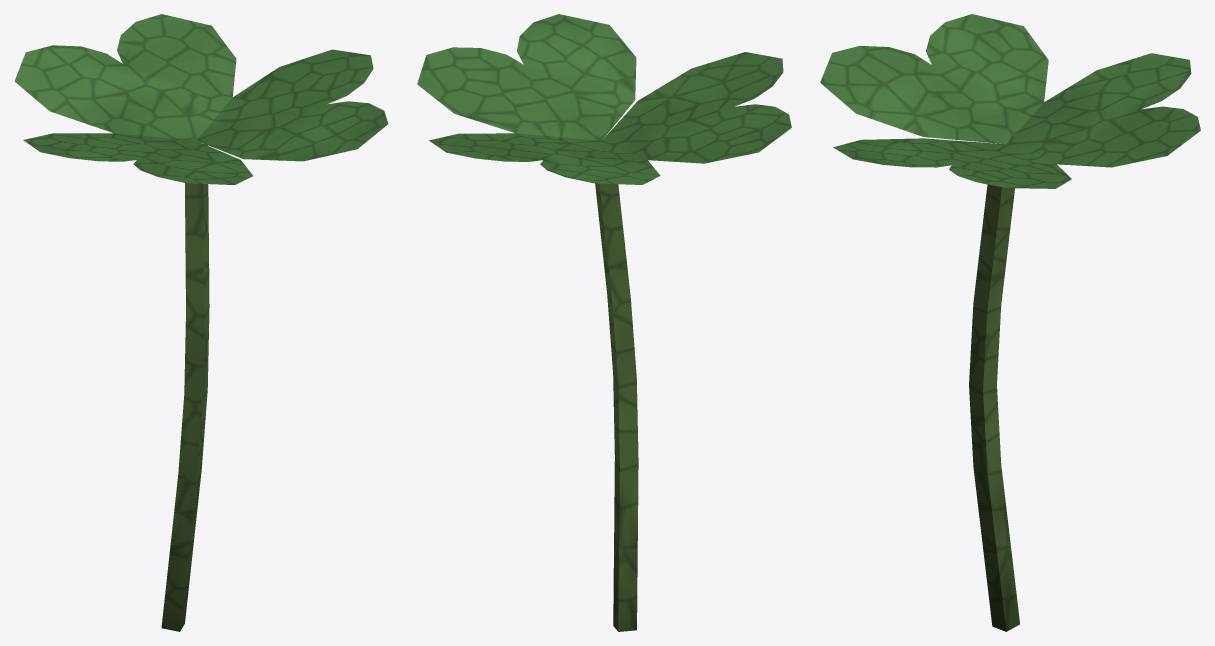
File: clover.glb
3 views of the same model, side by side, from view 1: azimuth 30°, elevation 25°; view 2: azimuth 150°, elevation 25°; view 3: azimuth 270°, elevation 25° (orthographic). The views are drawn at different scales.
Parts seen in each view (by area): view 1: clover; view 2: clover; view 3: clover.
Part boxes in pixels (left/top/right/bottom): clover: left=14, top=14, right=388, bottom=631; clover: left=417, top=14, right=791, bottom=631; clover: left=820, top=14, right=1200, bottom=631.
Bounding box in the file's own units: 5.3 × 7.64 × 4.9.
Materials: 2 (2 with a texture image).
